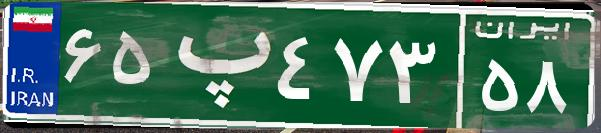3: (385, 28, 445, 110)
4: (273, 28, 330, 110)
5: (475, 38, 525, 113), (110, 28, 158, 105)
6: (57, 26, 110, 107)
7: (330, 28, 385, 110)
8: (525, 38, 570, 115)
پ: (158, 15, 273, 115)
